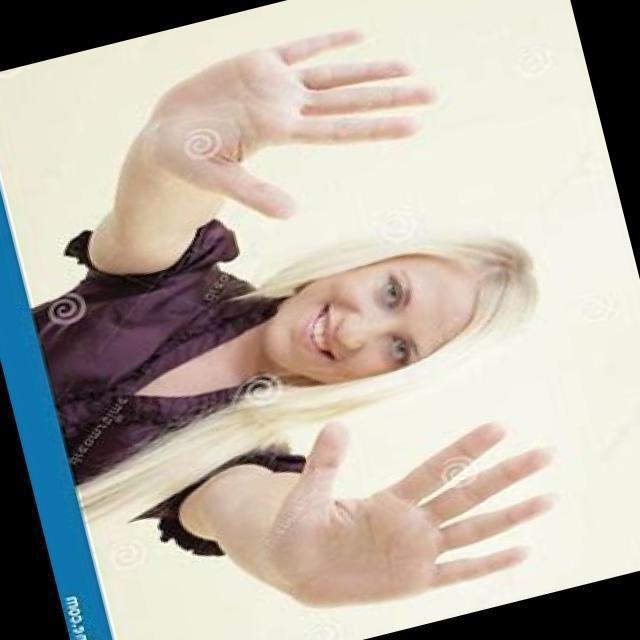not-gloved: (218, 366, 591, 640), (125, 0, 468, 251)
